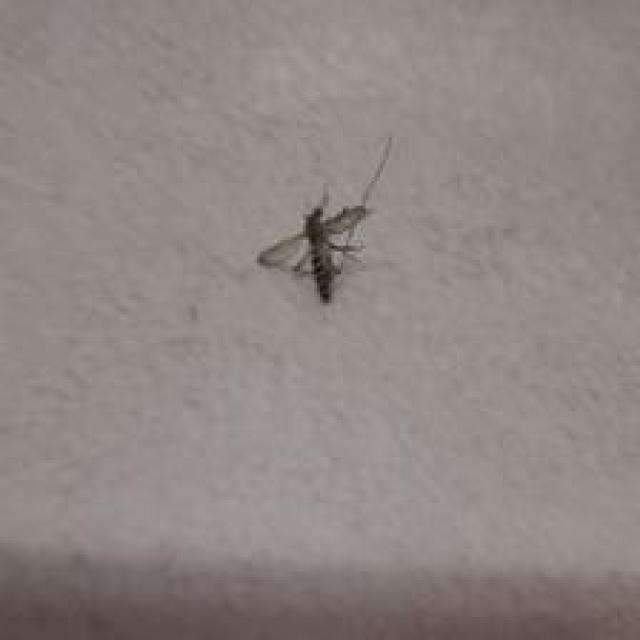Culex: (255, 134, 394, 306)
